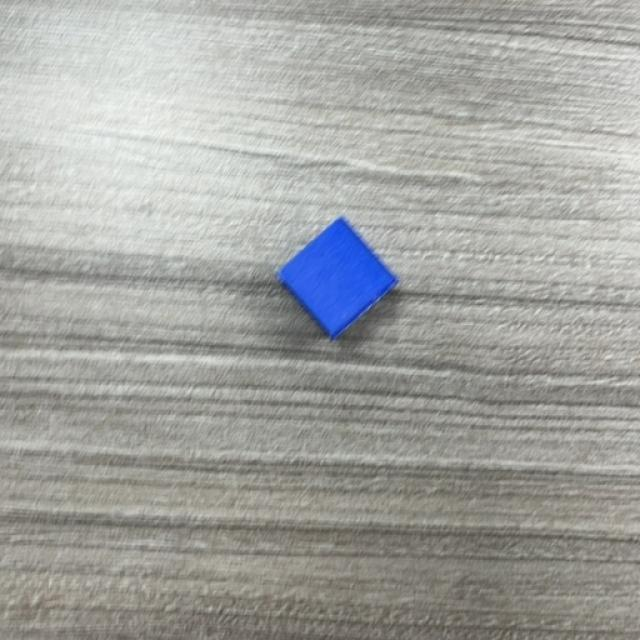Azul: (276, 218, 399, 341)
